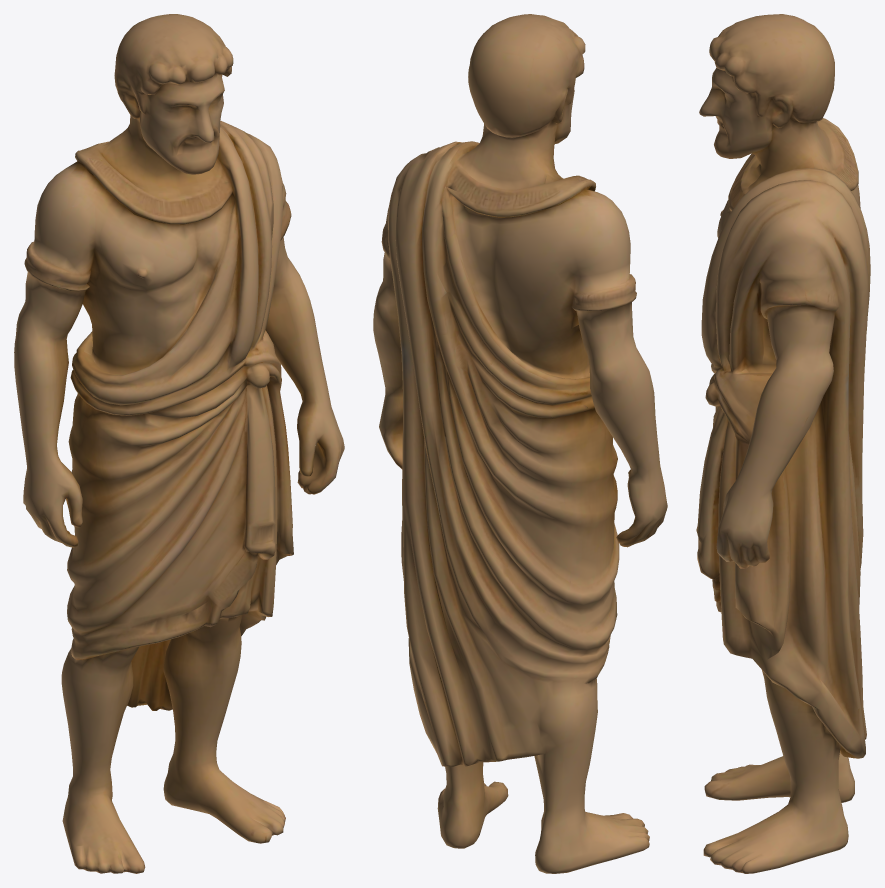
File: ancient_19d1f332_v2.glb
3 renders of one model, left to right at view 1: azimuth 30°, elevation 25°; view 2: azimuth 150°, elevation 25°; view 3: azimuth 270°, elevation 25°, orthographic.
Visible parts, largest first — view 1: material; view 2: material; view 3: material.
Boxes of the visible parts, x1,y1,x2,y2 form: material: [14, 14, 344, 873]; material: [373, 14, 667, 873]; material: [696, 14, 870, 873].
Bounding box in the file's own units: 0.7186 × 1.9 × 0.371.
Materials: 1 (1 with a texture image).
